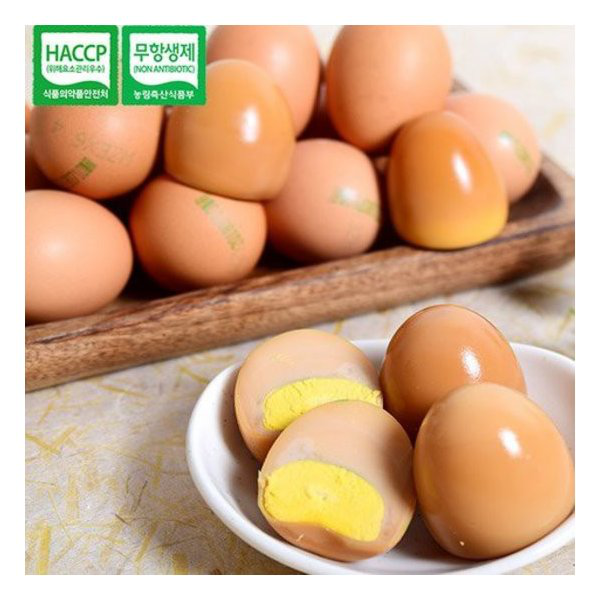egg: (30, 24, 549, 311), (226, 302, 575, 572)
